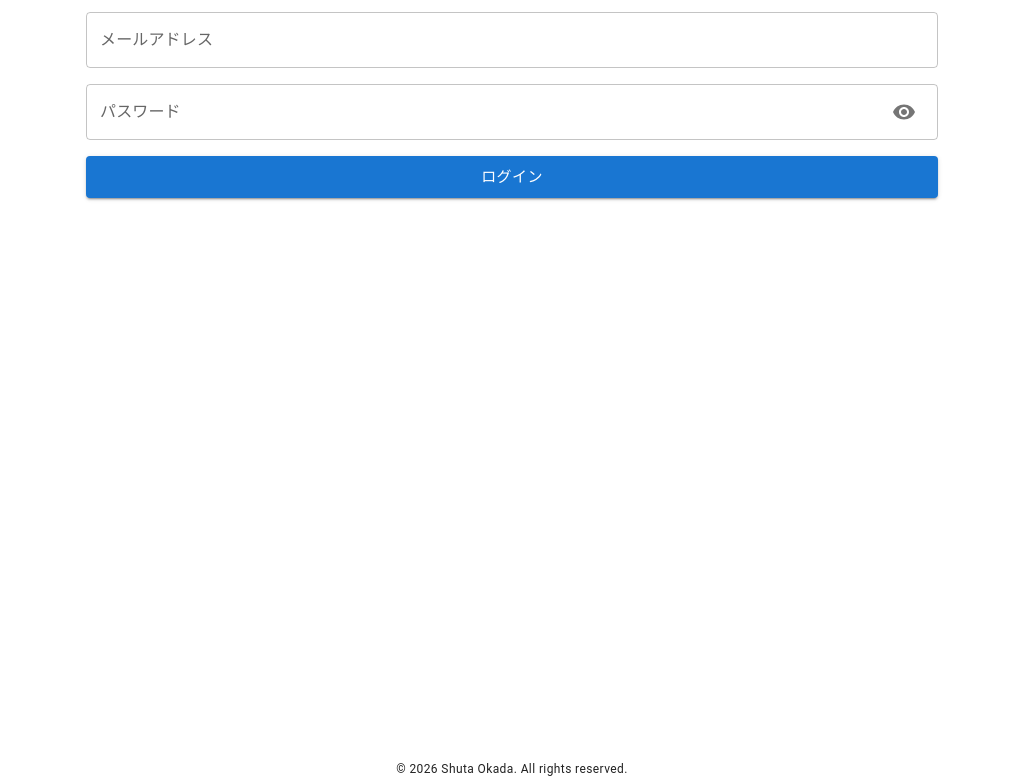
Test: ログインAPIでログインする › ステータスコードが400の場合 › エラーメッセージが表示されること
Type "hoge@example.com" into the field labelled "メールアドレス" at (512, 40), box [86,12,938,68]
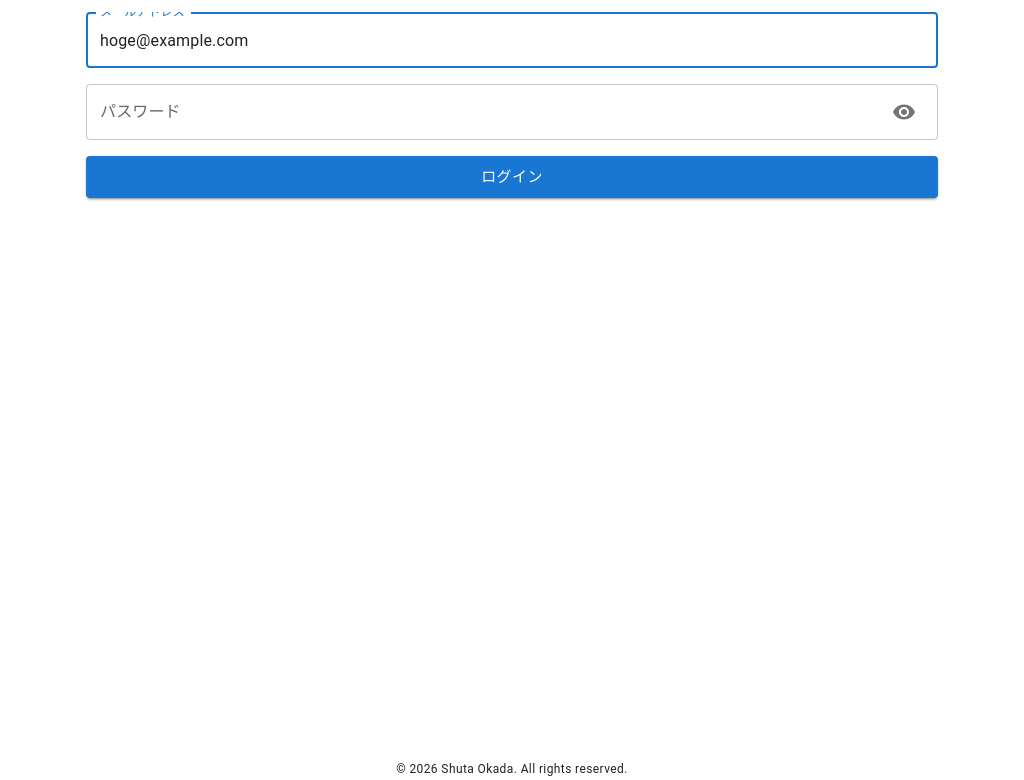
Type "password" into the password field labelled "パスワード" at (485, 112), box [86,84,884,140]
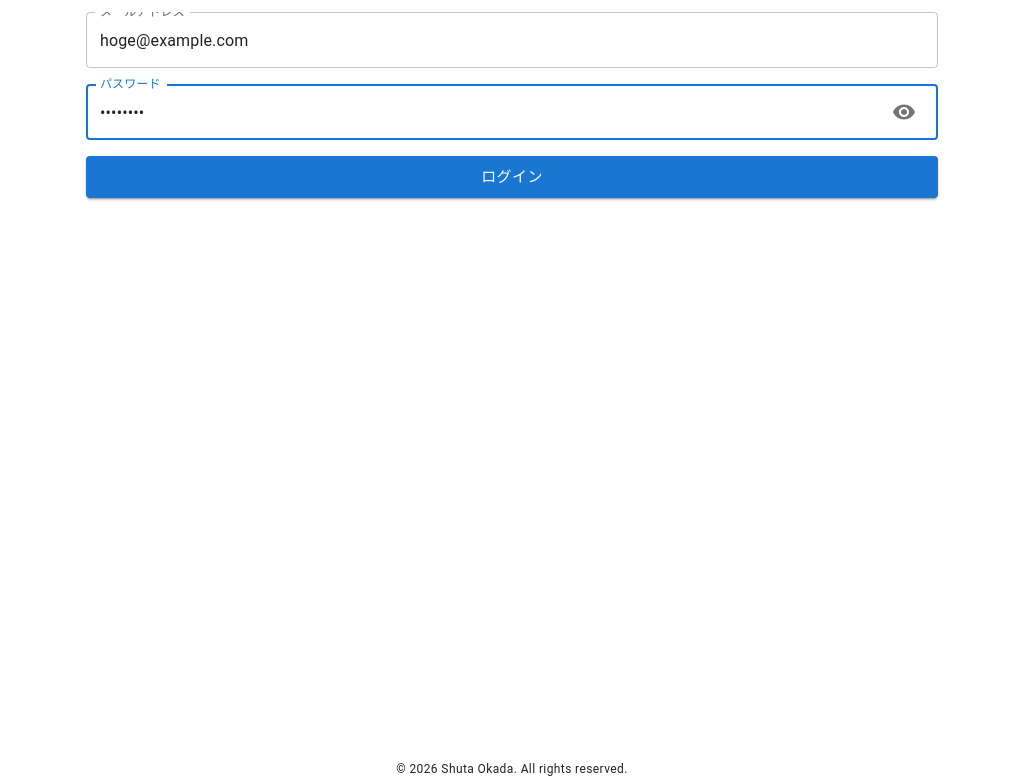
Click the button "ログイン" at (512, 177), box [86,156,938,198]
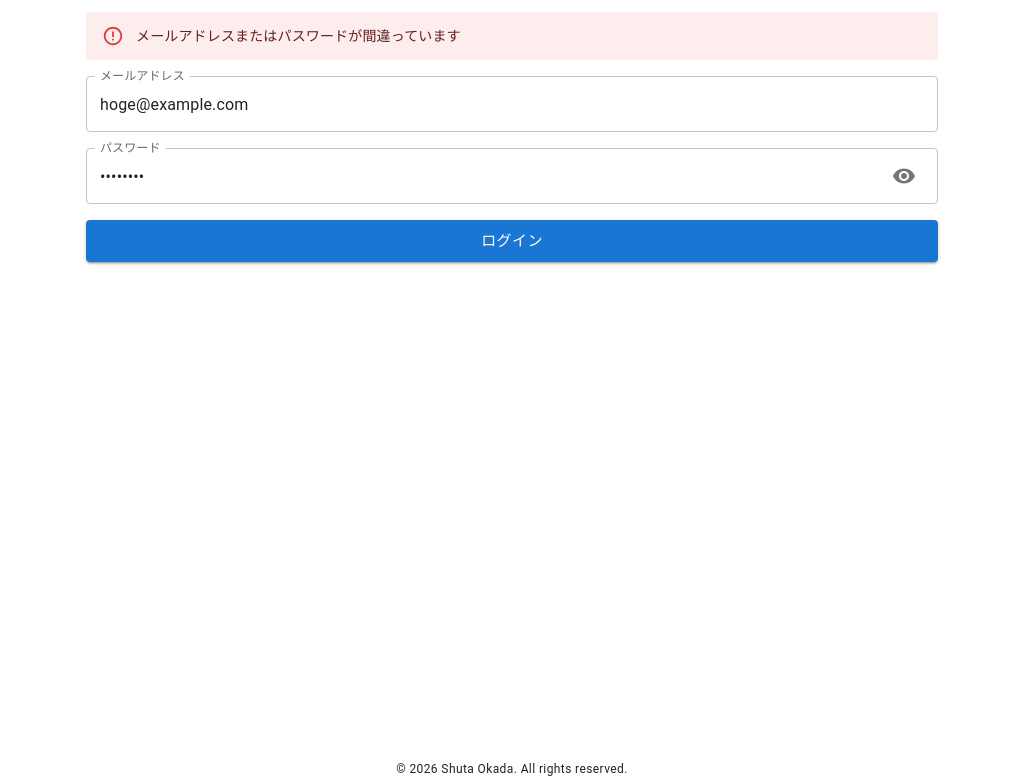
Expected: the text "メールアドレスまたはパスワードが間違っています" is shown, [136,28,461,44]
